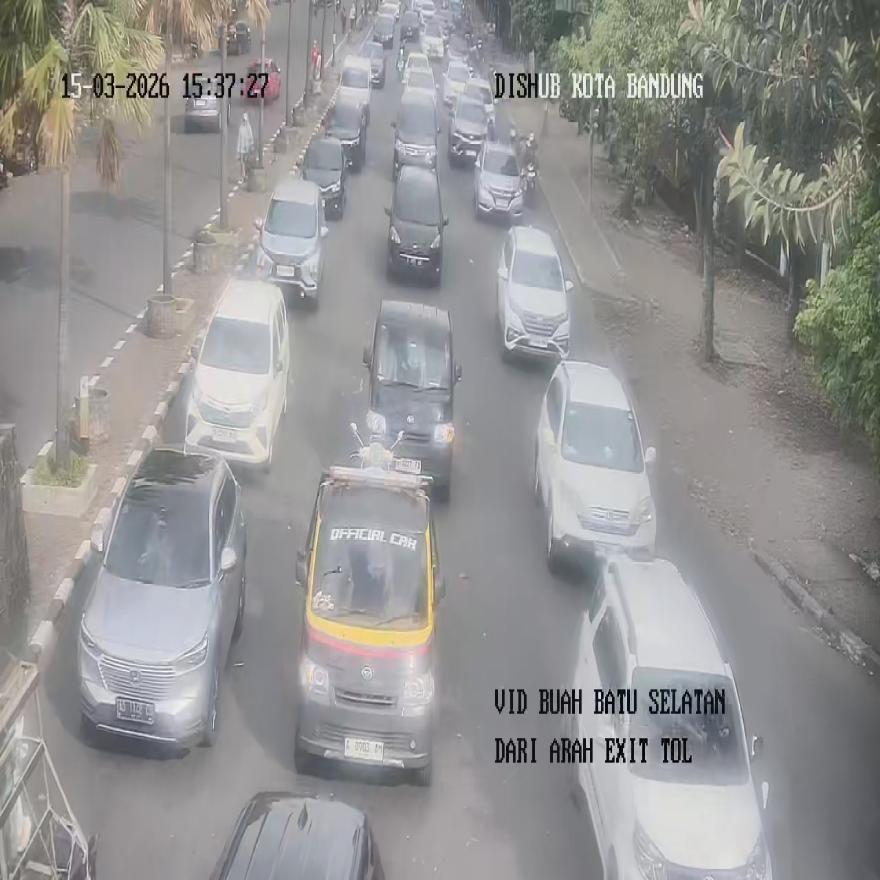Motor: (570, 550, 774, 876), (76, 446, 246, 749), (293, 464, 445, 784), (534, 360, 656, 570), (183, 278, 290, 470), (363, 301, 460, 496), (209, 788, 385, 880), (496, 224, 572, 360), (255, 176, 327, 298), (384, 162, 448, 284), (391, 85, 440, 178), (300, 137, 346, 220), (324, 93, 366, 170)
